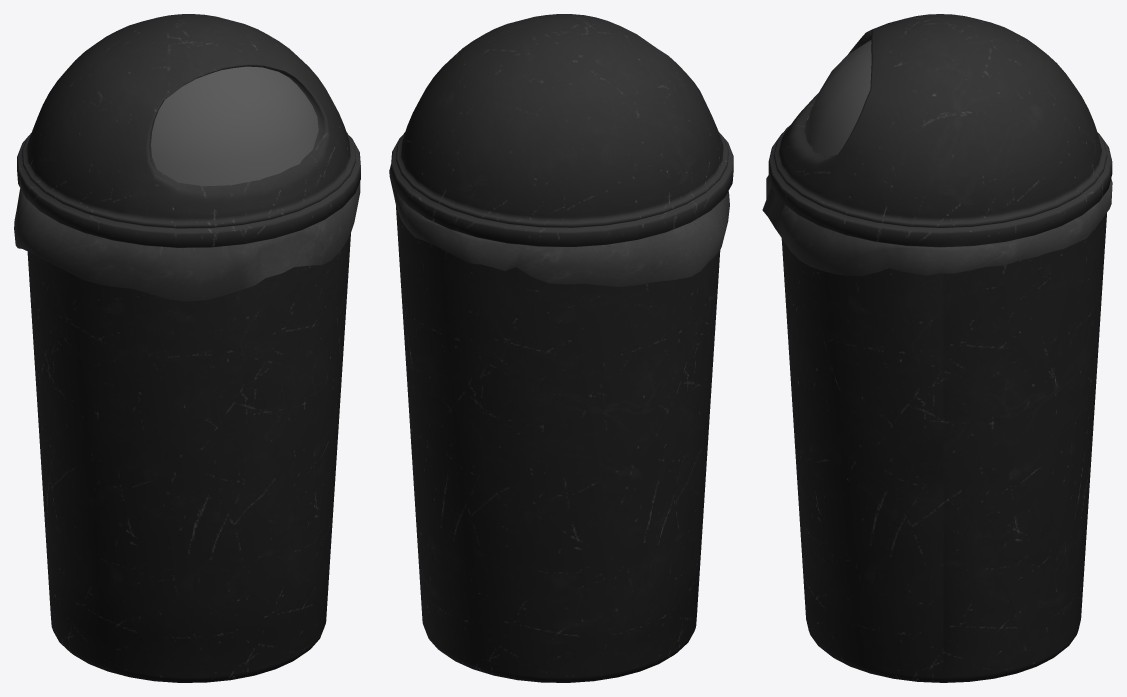
File: plastic_round_bin.glb
3 views of the same model, side by side, from view 1: azimuth 30°, elevation 25°; view 2: azimuth 150°, elevation 25°; view 3: azimuth 270°, elevation 25° (orthographic).
Parts seen in each view (by area): view 1: SM_Big_bin, SM_bin_lid.001, Cube, Sphere; view 2: SM_Big_bin, SM_bin_lid.001, Cube; view 3: SM_Big_bin, SM_bin_lid.001, Cube, Sphere.
Boxes of the visible parts, box(x1,y1,x2,y2) form: SM_Big_bin: box(27, 233, 350, 682); SM_bin_lid.001: box(17, 14, 360, 247); Cube: box(14, 181, 360, 301); Sphere: box(151, 66, 318, 186); SM_Big_bin: box(396, 206, 720, 682); SM_bin_lid.001: box(391, 14, 733, 246); Cube: box(389, 165, 729, 286); SM_Big_bin: box(781, 213, 1106, 682); SM_bin_lid.001: box(768, 14, 1112, 247); Cube: box(762, 175, 1112, 276); Sphere: box(804, 40, 871, 157).
Bounding box in the file's own units: 0.6038 × 1.12 × 0.5907.
Materials: 1 (1 with a texture image).
